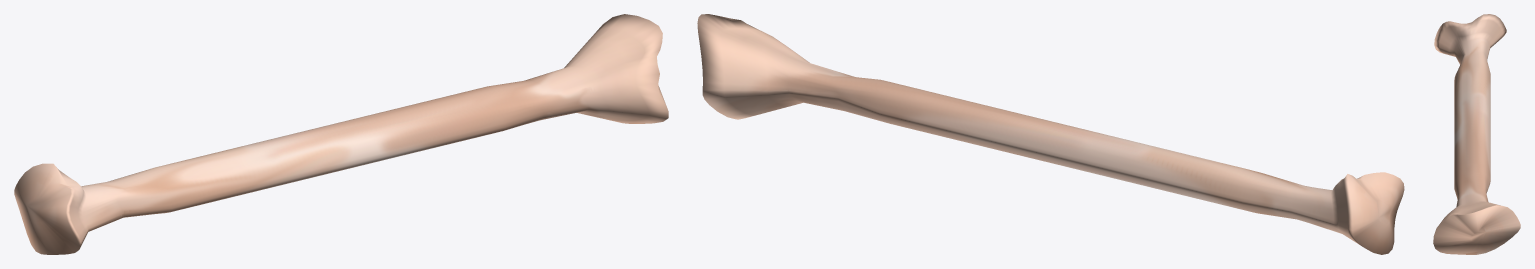
Rendered from model_meat_bone.fbx.
3 renders of one model, left to right at view 1: azimuth 30°, elevation 25°; view 2: azimuth 150°, elevation 25°; view 3: azimuth 270°, elevation 25°, orthographic. The views are drawn at different scales.
Visible parts, largest first — view 1: Cylinder; view 2: Cylinder; view 3: Cylinder.
Boxes of the visible parts, <box> form: Cylinder: <box>14,14,668,254</box>; Cylinder: <box>697,14,1404,254</box>; Cylinder: <box>1433,14,1520,254</box>.
Size of the model in its own units: 3.85 by 0.5185 by 0.6974.
1 material, 1 textured.
